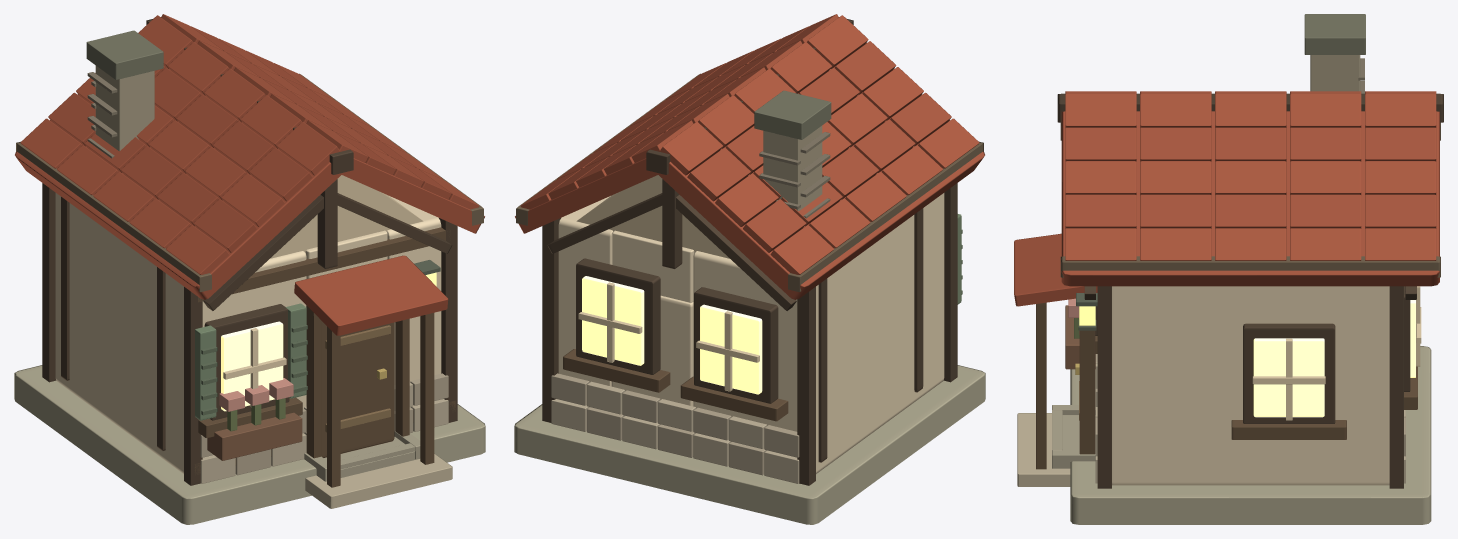
Rendered from house-0.glb.
The picture shows the model from 3 angles, left to right: view 1: azimuth 30°, elevation 25°; view 2: azimuth 150°, elevation 25°; view 3: azimuth 270°, elevation 25°; orthographic projection. The views are drawn at different scales.
Parts seen in each view (by area): view 1: house-0-0, door-hinge; view 2: house-0-0; view 3: house-0-0.
Part boxes in pixels (left/top/right/bottom): house-0-0: left=14, top=14, right=485, bottom=524; door-hinge: left=321, top=320, right=394, bottom=457; house-0-0: left=514, top=14, right=985, bottom=524; house-0-0: left=1014, top=14, right=1443, bottom=524.
Bounding box in the file's own units: 1.88 × 2.19 × 2.24.
